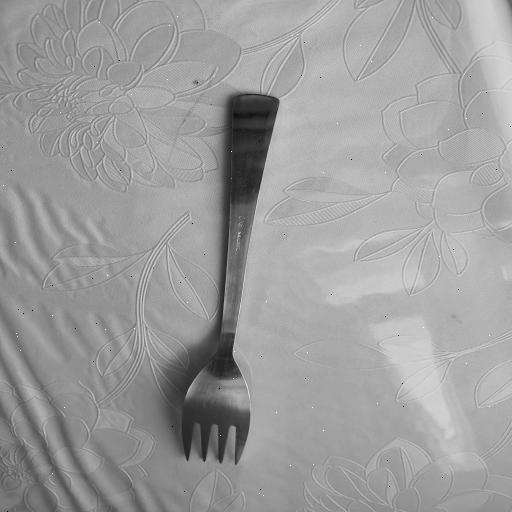fork: (178, 92, 282, 465)
